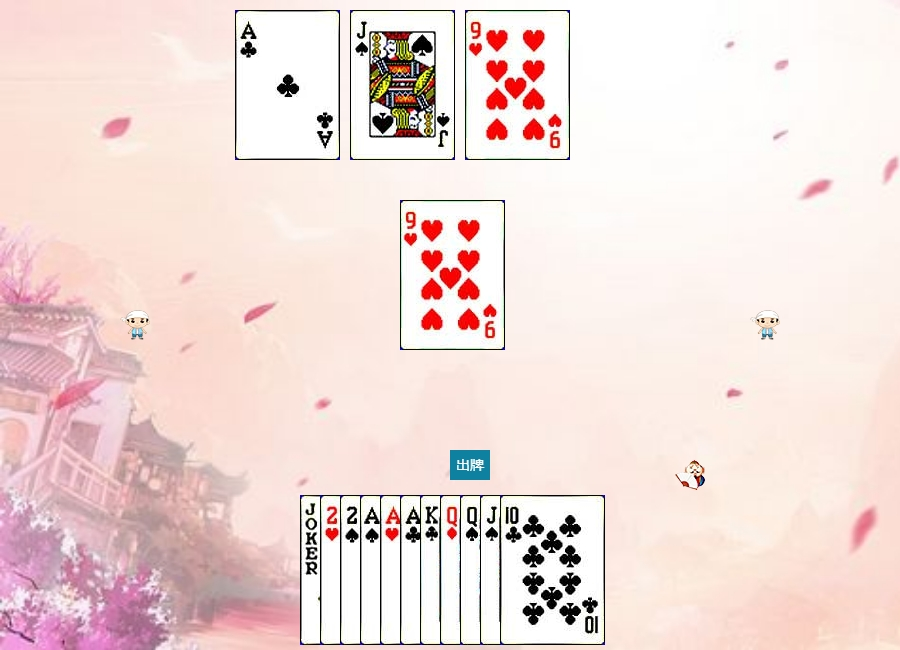10~2: (500, 495, 605, 645)
11~4: (350, 10, 455, 160), (480, 495, 585, 645)
12~1: (440, 495, 545, 645)
12~4: (460, 495, 565, 645)
13~2: (420, 495, 525, 645)
14~2: (235, 10, 340, 160), (400, 495, 505, 645)
14~3: (380, 495, 485, 645)
14~4: (360, 495, 465, 645)
15~3: (320, 495, 425, 645)
15~4: (340, 495, 445, 645)
17~3: (300, 495, 405, 645)
9~3: (465, 10, 570, 160), (400, 200, 505, 350)
